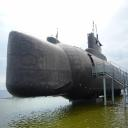submarine: (9, 26, 128, 103)
